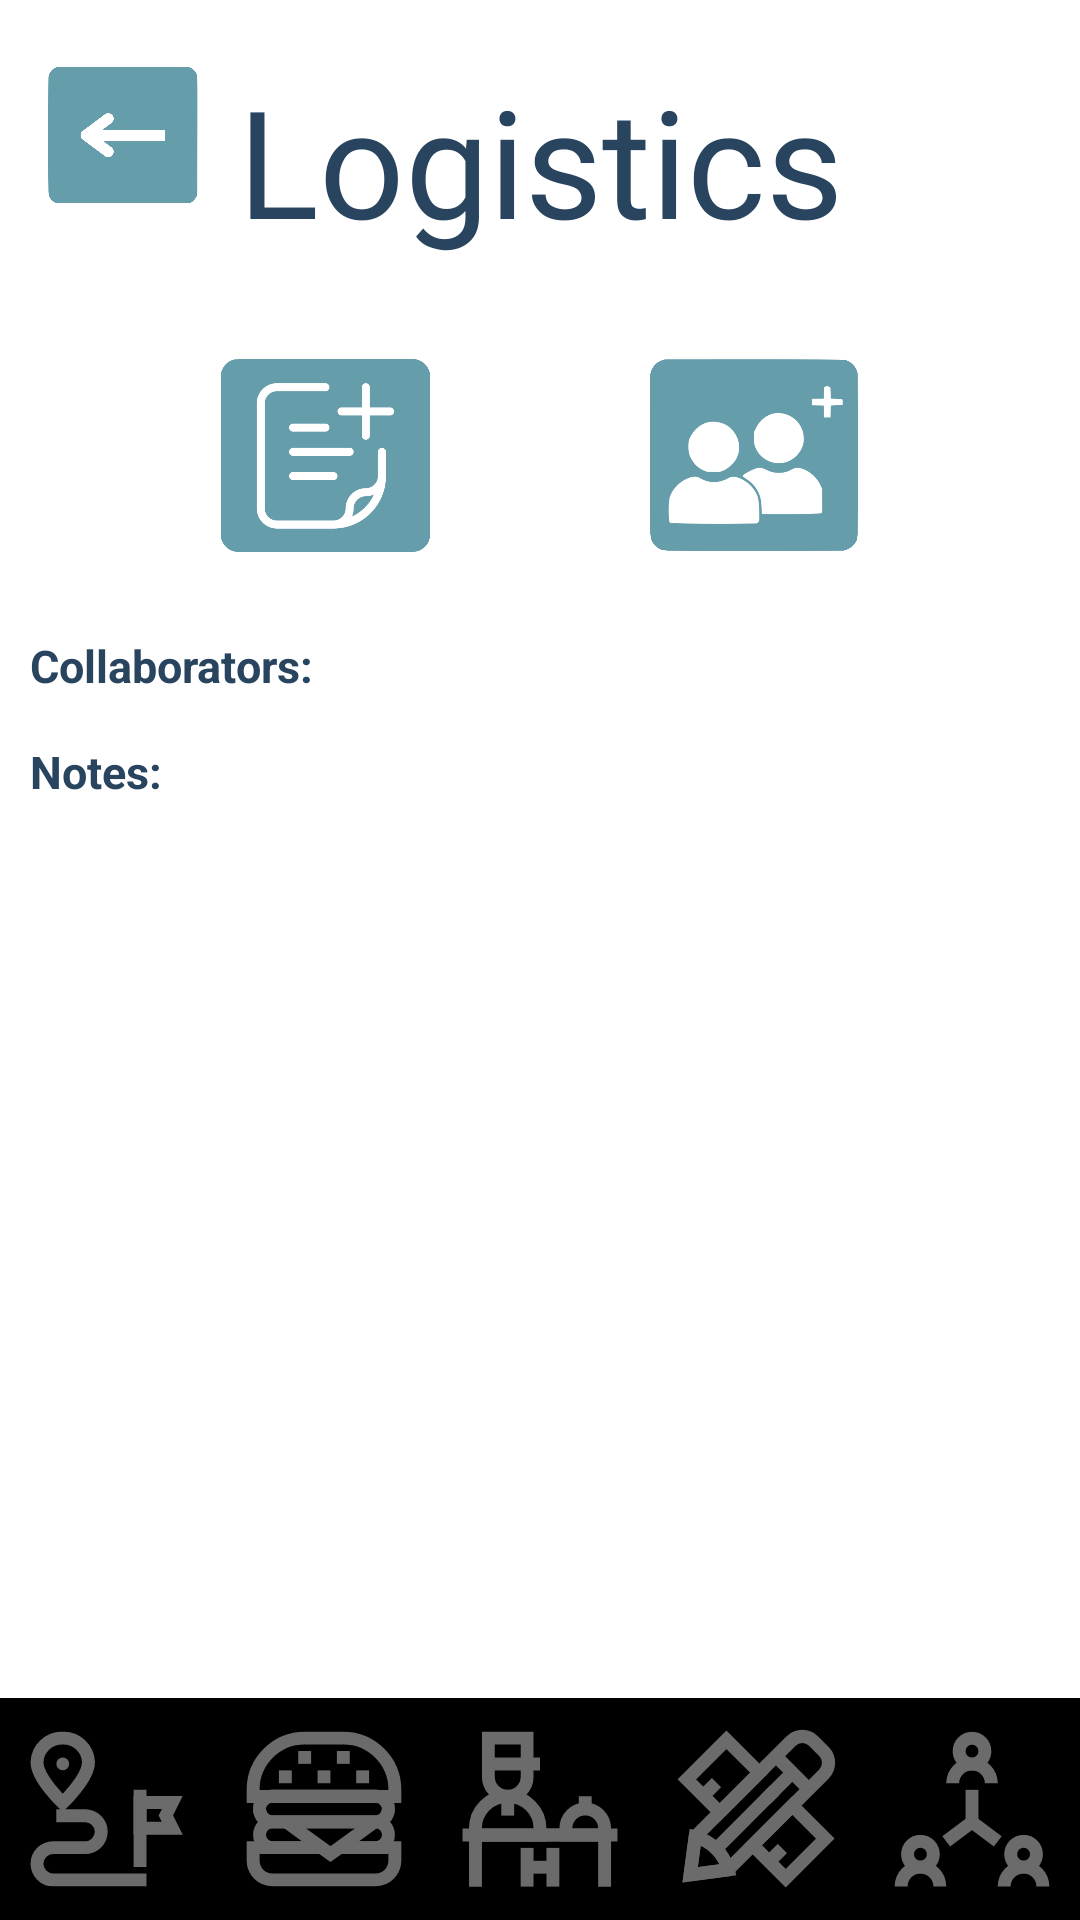

Icon click points for this 1080px×1920px phone screenshot, format (x,y):
accommodations: (540,1809)
add users: (754,455)
back: (123,135)
destinations: (106,1809)
dining establishments: (324,1809)
note: (325,455)
travel community: (972,1809)
